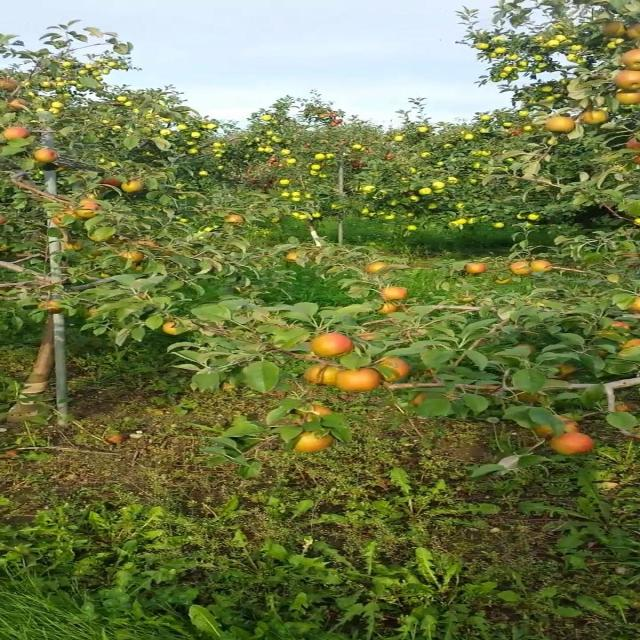apple: (547, 432, 597, 456), (532, 416, 581, 438), (340, 368, 382, 393), (312, 336, 356, 358), (376, 356, 412, 382), (305, 364, 341, 387), (298, 432, 334, 453), (298, 408, 334, 423), (77, 200, 101, 220), (547, 120, 576, 134), (582, 112, 612, 124), (618, 72, 638, 90), (554, 364, 578, 379), (618, 340, 639, 357), (383, 288, 411, 300), (604, 324, 633, 335), (518, 392, 544, 404), (618, 92, 638, 107), (56, 212, 76, 227), (120, 180, 144, 192), (604, 24, 626, 37), (532, 260, 555, 272), (625, 52, 639, 71), (6, 128, 28, 140), (511, 264, 533, 276), (35, 152, 57, 164), (376, 304, 400, 315), (120, 252, 144, 263), (6, 100, 28, 112), (468, 264, 489, 276), (518, 344, 540, 355), (618, 400, 638, 412), (134, 240, 160, 249), (369, 264, 389, 275), (618, 340, 638, 351), (163, 324, 181, 336), (42, 300, 62, 310), (99, 180, 121, 189), (625, 136, 639, 150), (412, 396, 428, 408), (227, 216, 247, 225), (63, 244, 85, 252), (285, 252, 300, 263), (611, 324, 633, 331), (6, 80, 21, 90), (554, 36, 569, 46), (497, 276, 514, 284), (134, 292, 151, 300), (568, 44, 585, 52), (49, 304, 64, 313), (461, 296, 476, 304), (611, 40, 626, 48), (63, 212, 80, 219), (632, 296, 639, 312), (56, 216, 66, 227), (547, 40, 560, 48), (611, 276, 624, 283), (476, 340, 489, 346), (134, 264, 142, 272)
